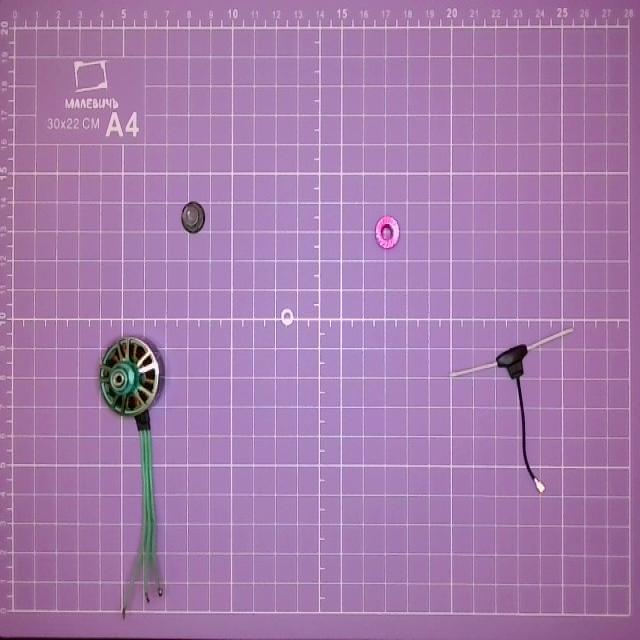antenna: (458, 325, 576, 493)
motor: (98, 331, 182, 621)
screw_M3: (276, 309, 300, 329)
screw_M5: (178, 194, 208, 242), (372, 213, 407, 252)
